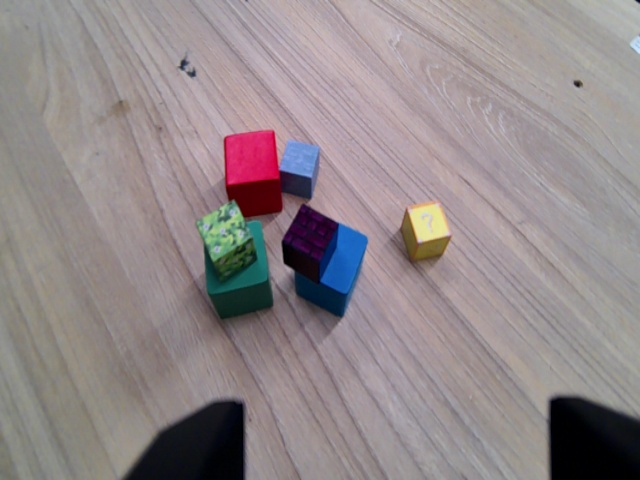brick: (274, 202, 345, 286)
grass: (192, 199, 259, 285)
lucky: (396, 198, 455, 263)
stone: (276, 134, 326, 203)
